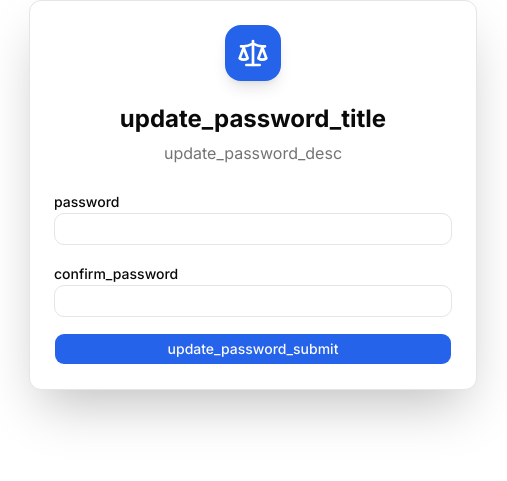
UpdatePasswordPage › shows error when passwords do not match
The width and height of the screenshot is (507, 481).
Expected: the heading "update_password_title" is shown, [120, 104, 386, 133]
Step 1. Type "password123" into the password field labelled "password" → (253, 229), box [54, 213, 452, 245]
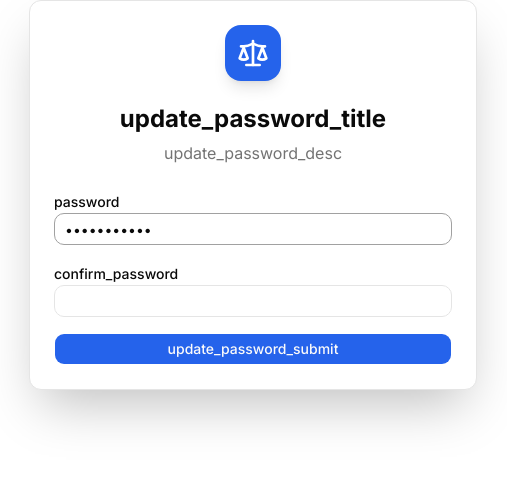
Step 2. Type "password456" into the password field labelled "confirm_password" → (253, 301), box [54, 285, 452, 317]
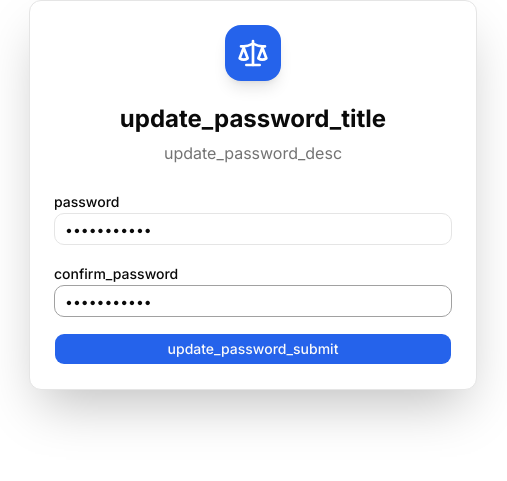
Step 3. Click the button "update_password_submit" → (253, 349), box [54, 333, 452, 365]
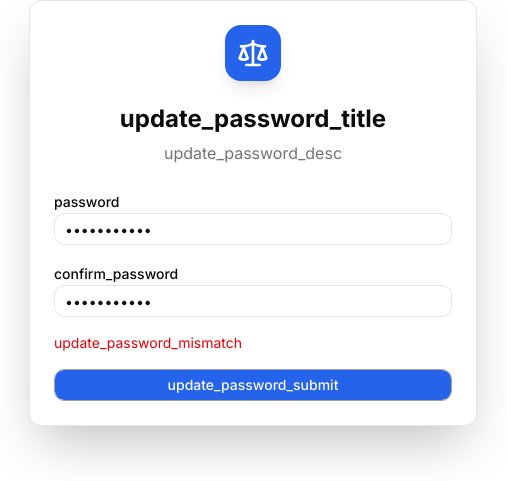
Now the text "update_password_mismatch" is shown, box [54, 334, 242, 351]
